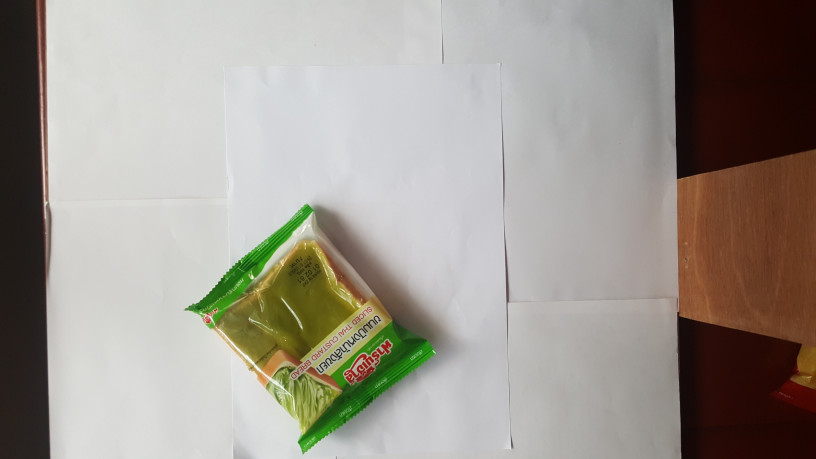farmhouse-bread-pandan: (183, 204, 438, 457)
